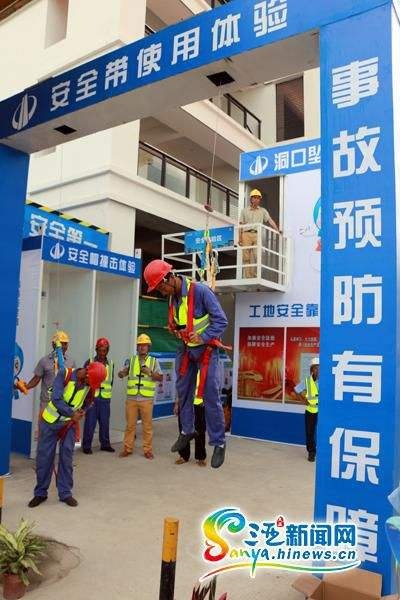red: (139, 258, 177, 302), (80, 360, 108, 395), (92, 336, 111, 362)
white: (308, 356, 321, 380)
yellow: (132, 332, 154, 357), (48, 330, 69, 354), (247, 187, 264, 209)
